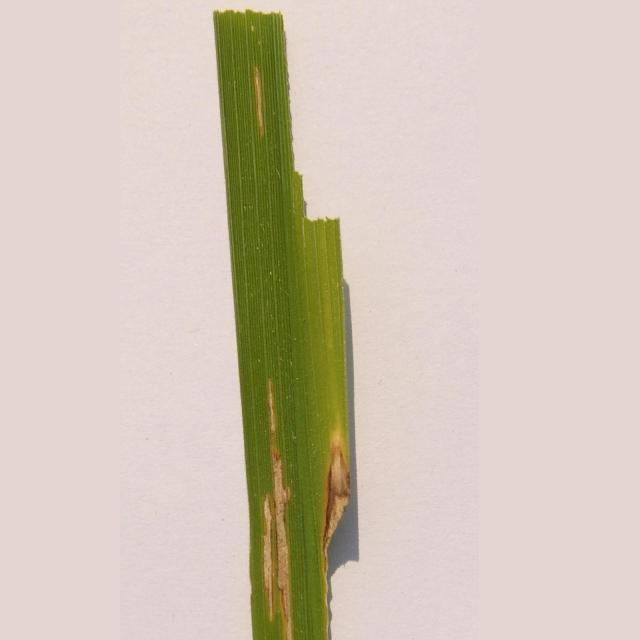Bacterial leaf blight: (242, 379, 308, 640), (319, 408, 359, 631), (243, 64, 273, 137)
